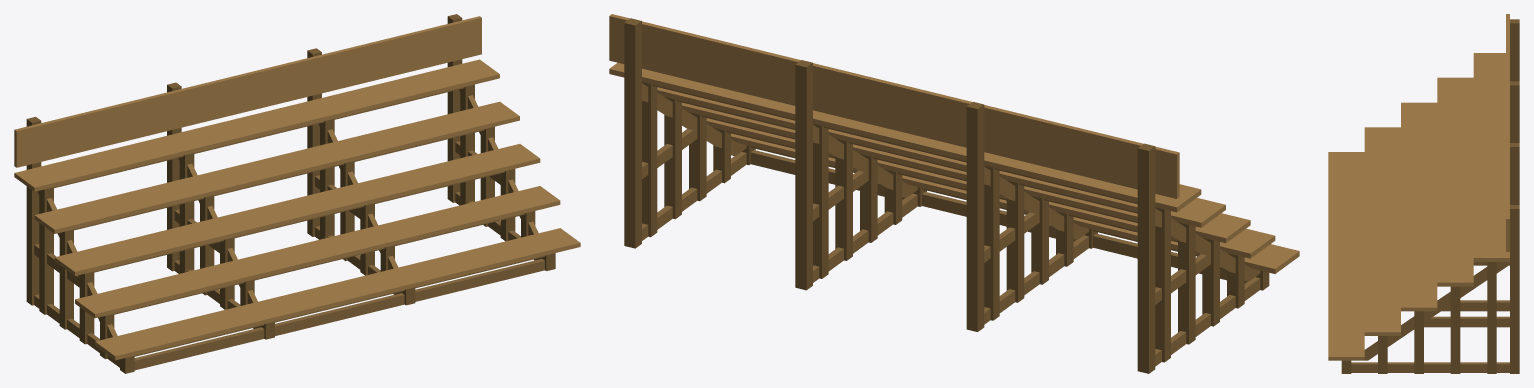
Rendered from Tribune.fbx.
3 renders of one model, left to right at view 1: azimuth 30°, elevation 25°; view 2: azimuth 150°, elevation 25°; view 3: azimuth 270°, elevation 25°, orthographic. The views are drawn at different scales.
Parts seen in each view (by area): view 1: Cube; view 2: Cube; view 3: Cube.
Boxes of the visible parts, x1,y1,x2,y2 form: Cube: [14, 14, 580, 373]; Cube: [609, 14, 1299, 373]; Cube: [1328, 14, 1519, 373].
Bounding box in the file's own units: 800 × 300 × 316.
